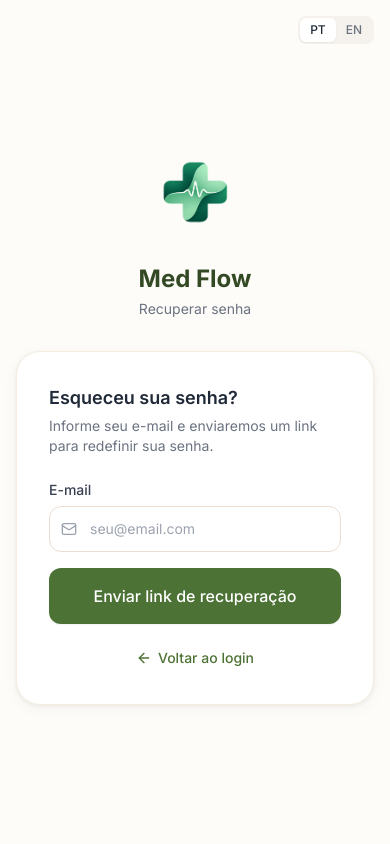
Test case: Password Recovery Journey › ForgotPasswordPage › shows error when forgot password request fails
The width and height of the screenshot is (390, 844).
In the field with placeholder "seu@email.com": (195, 529) [49,506,341,552], type "user@test.com"
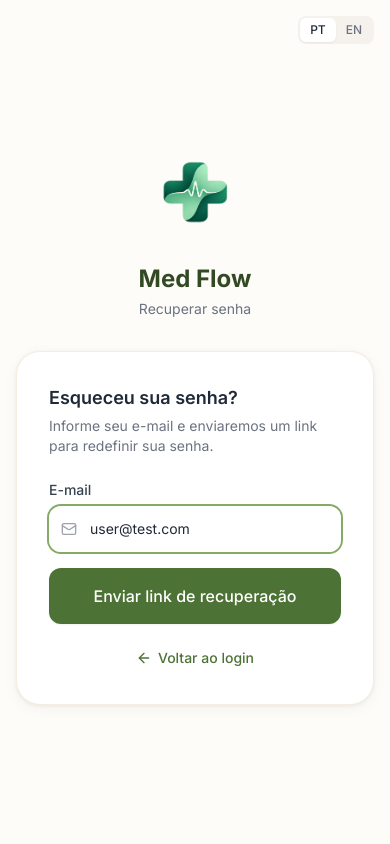
Click the button "Enviar link de recuperação": (195, 596) [49,568,341,624]
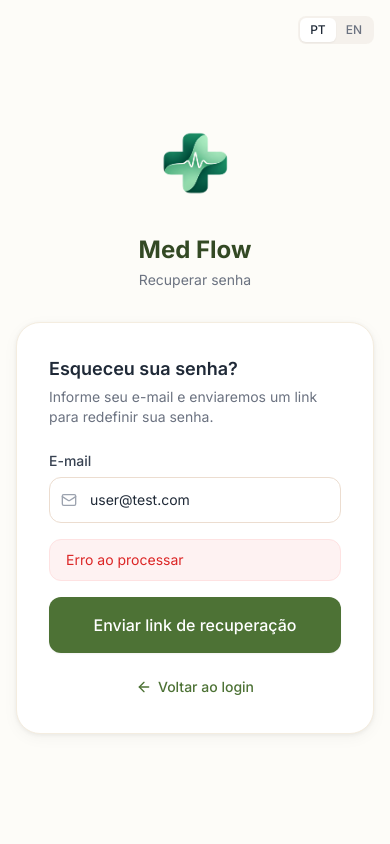
Result: the text "Erro ao processar" is shown at [49,539,341,581]
